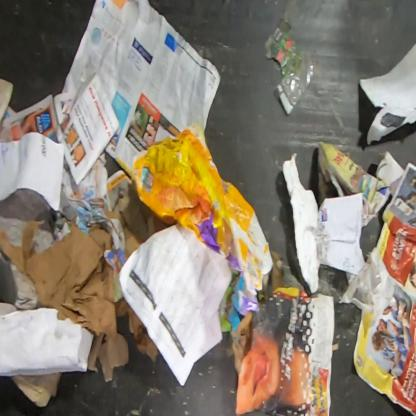cardboard: (132, 124, 274, 312), (0, 220, 160, 383), (11, 372, 63, 407)
soft_plastic: (276, 53, 316, 116)
